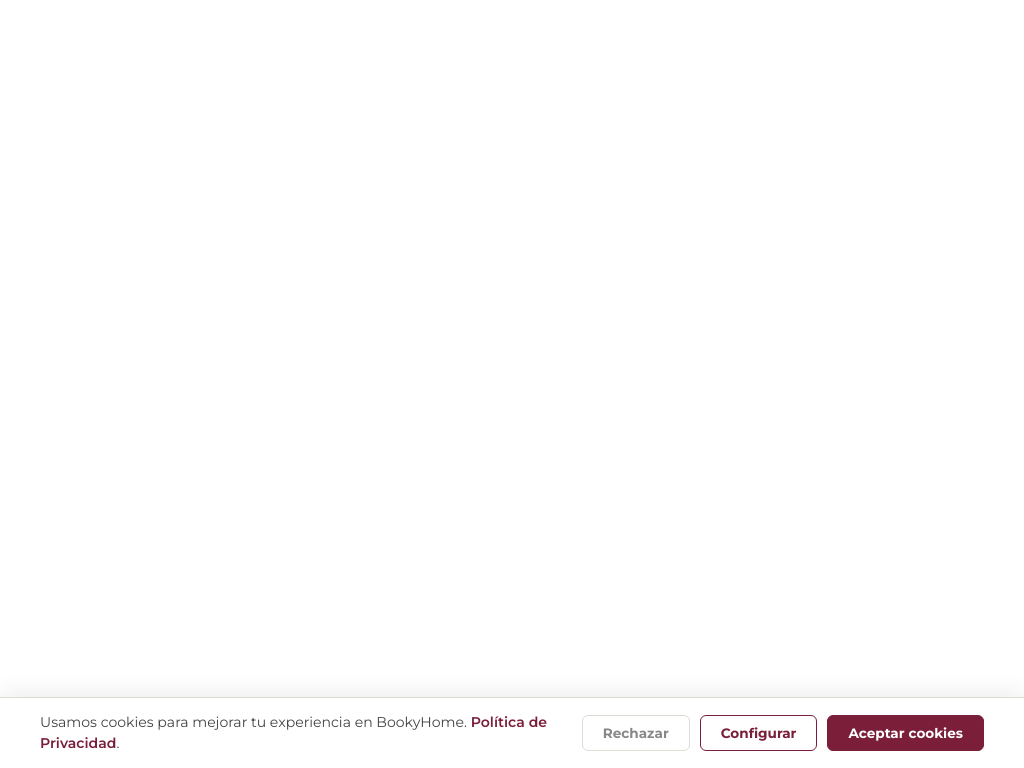
Test: CookieBanner — ramas extra › cierra el modal de configuración al hacer clic en el overlay
The width and height of the screenshot is (1024, 768).
Click the button "Configurar" at (759,733), box [700,715,818,751]
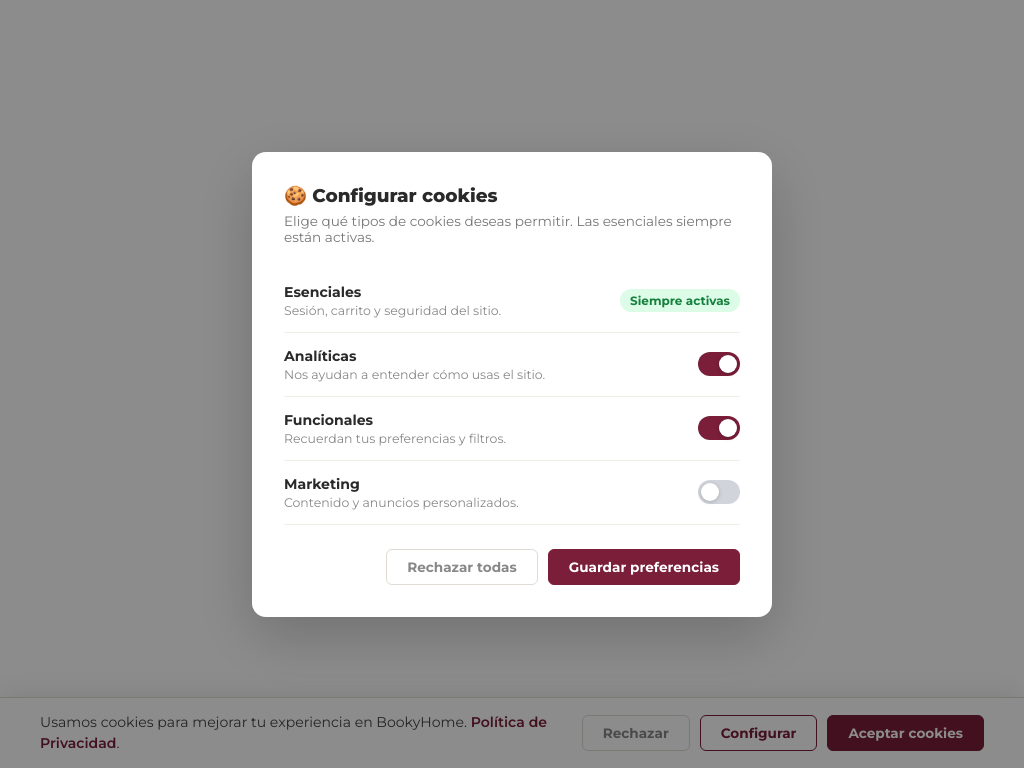
Expected: the text "Esenciales" is shown, [284,282,361,300]
# Clic en el overlay (cookie-modal-overlay) debe cerrar el modal
Click the element with class "cookie-modal-overlay" at (61,384), box [0,0,1023,767]
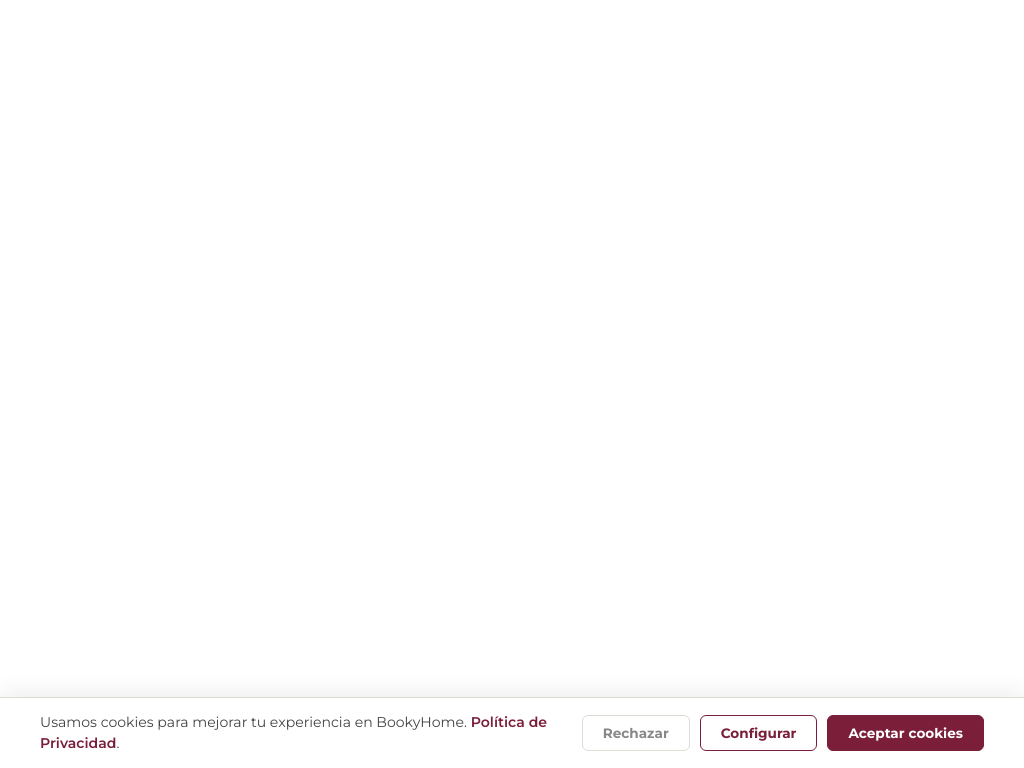
Expected: the dialog named "Aviso de cookies" is shown, [0,697,1023,767]
Expected: the text "esenciales" is gone
